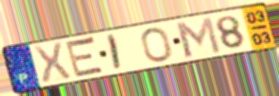8: (214, 14, 248, 50)
E: (64, 35, 107, 80)
I: (107, 32, 123, 72)
M: (173, 15, 224, 59)
O: (139, 26, 174, 63)
X: (31, 41, 74, 86)
